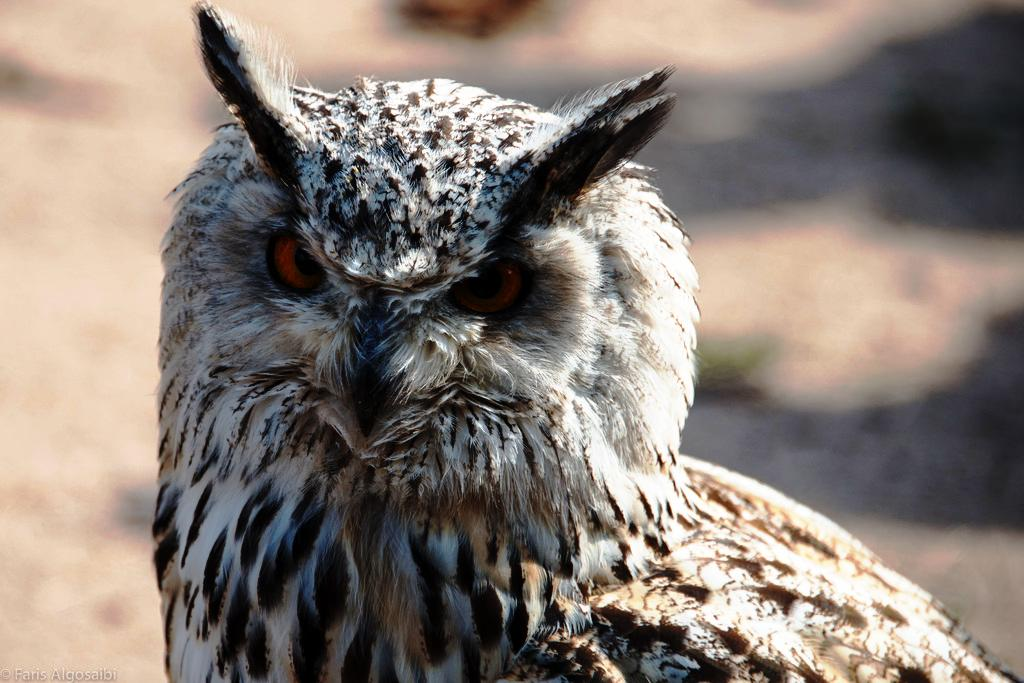Owl: (155, 0, 1022, 682)
